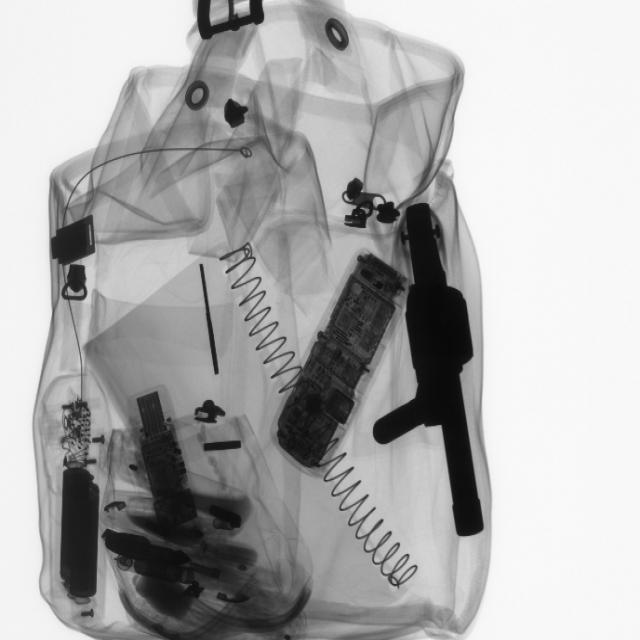GUN: (390, 198, 492, 548)
